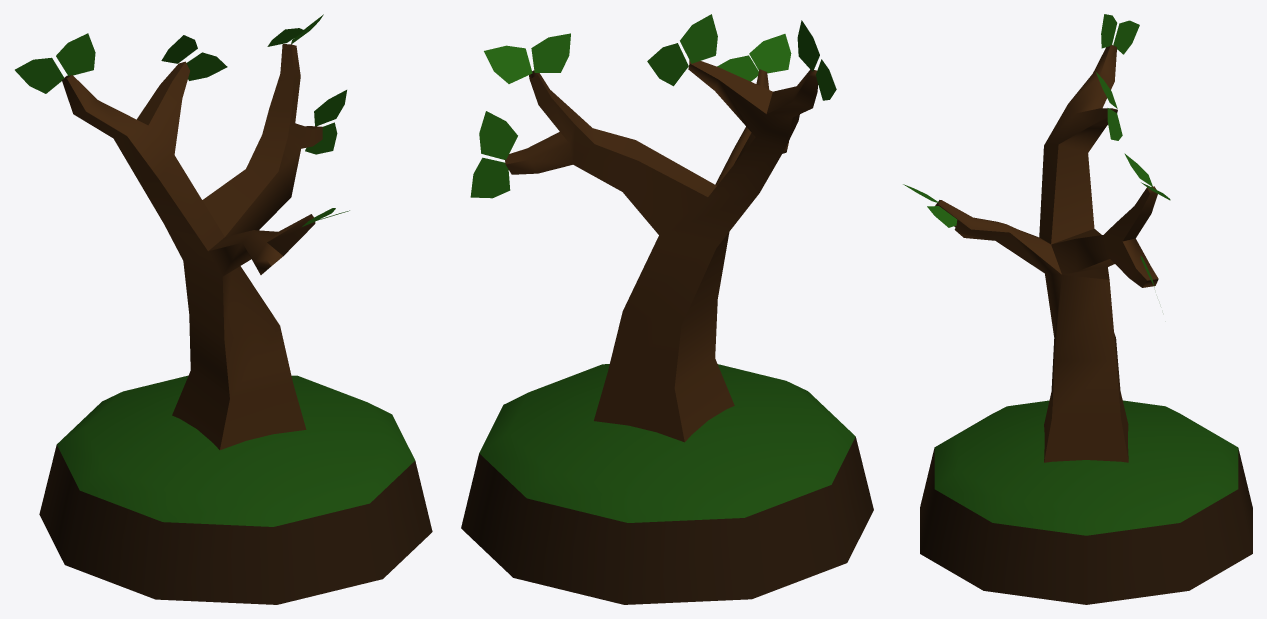
The model's file is hat_spring.glb.
3 views of the same model, side by side, from view 1: azimuth 30°, elevation 25°; view 2: azimuth 150°, elevation 25°; view 3: azimuth 270°, elevation 25° (orthographic). The views are drawn at different scales.
Visible parts, largest first — view 1: hat_spring; view 2: hat_spring; view 3: hat_spring.
Part boxes in pixels (box(x1,y1,x2,y2)): hat_spring: box(15, 14, 432, 604); hat_spring: box(461, 14, 873, 604); hat_spring: box(903, 14, 1252, 604).
Bounding box in the file's own units: 0.2019 × 0.2748 × 0.1911.
